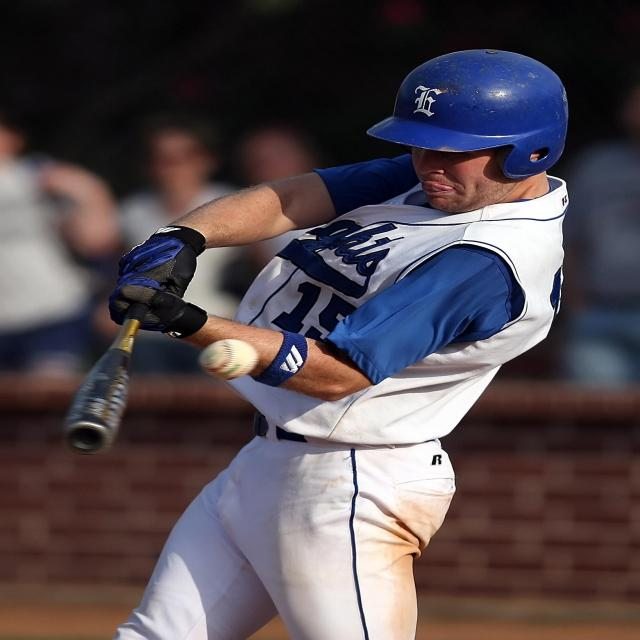baseball: (200, 334, 258, 378)
